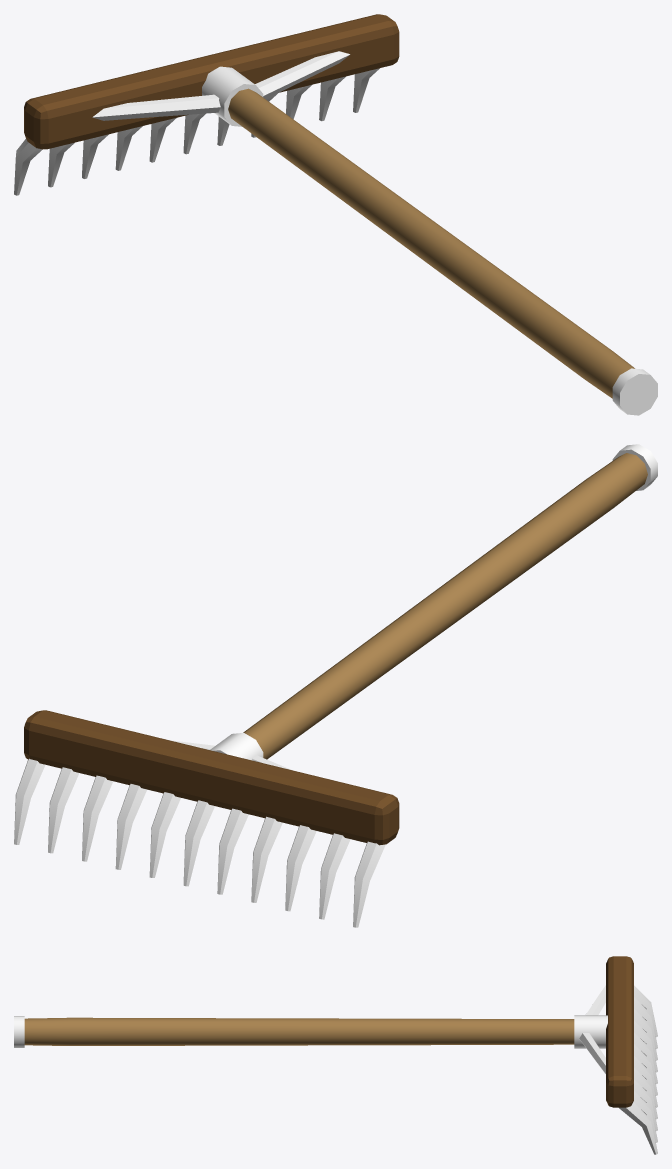
File: rake.glb
3 renders of one model, top to bottom at view 1: azimuth 30°, elevation 25°; view 2: azimuth 150°, elevation 25°; view 3: azimuth 270°, elevation 25°, orthographic. The views are drawn at different scales.
Visible parts, largest first — view 1: Rake; view 2: Rake; view 3: Rake.
Boxes of the visible parts, x1,y1,x2,y2 form: Rake: (14,14,657,415); Rake: (14,444,657,927); Rake: (14,956,657,1154).
Bounding box in the file's own units: 0.6199 × 0.1821 × 1.34.
